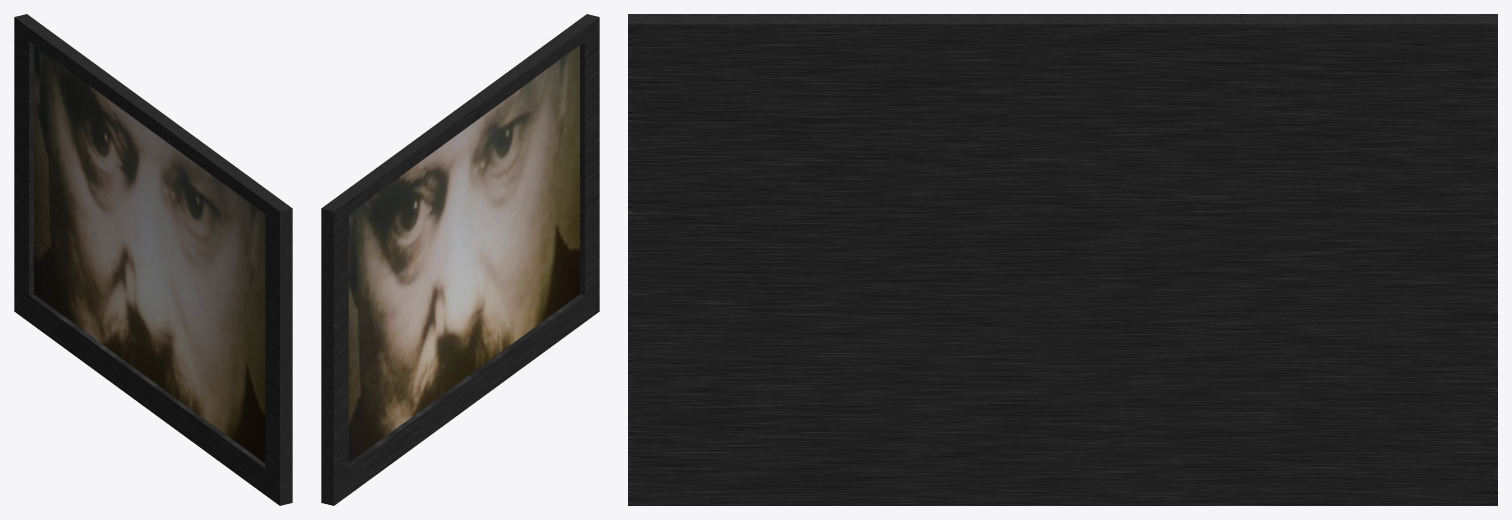
Rendered from Telescreen.FBX.
The picture shows the model from 3 angles, left to right: view 1: azimuth 30°, elevation 25°; view 2: azimuth 150°, elevation 25°; view 3: azimuth 270°, elevation 25°; orthographic projection. The views are drawn at different scales.
Visible parts, largest first — view 1: Telescreen; view 2: Telescreen; view 3: Telescreen.
Boxes of the visible parts, x1=… form: Telescreen: x1=14, y1=14, x2=292, y2=505; Telescreen: x1=321, y1=14, x2=599, y2=505; Telescreen: x1=628, y1=14, x2=1497, y2=505.
Size of the model in its own units: 1 by 22 by 36.
2 materials, 2 textured.
